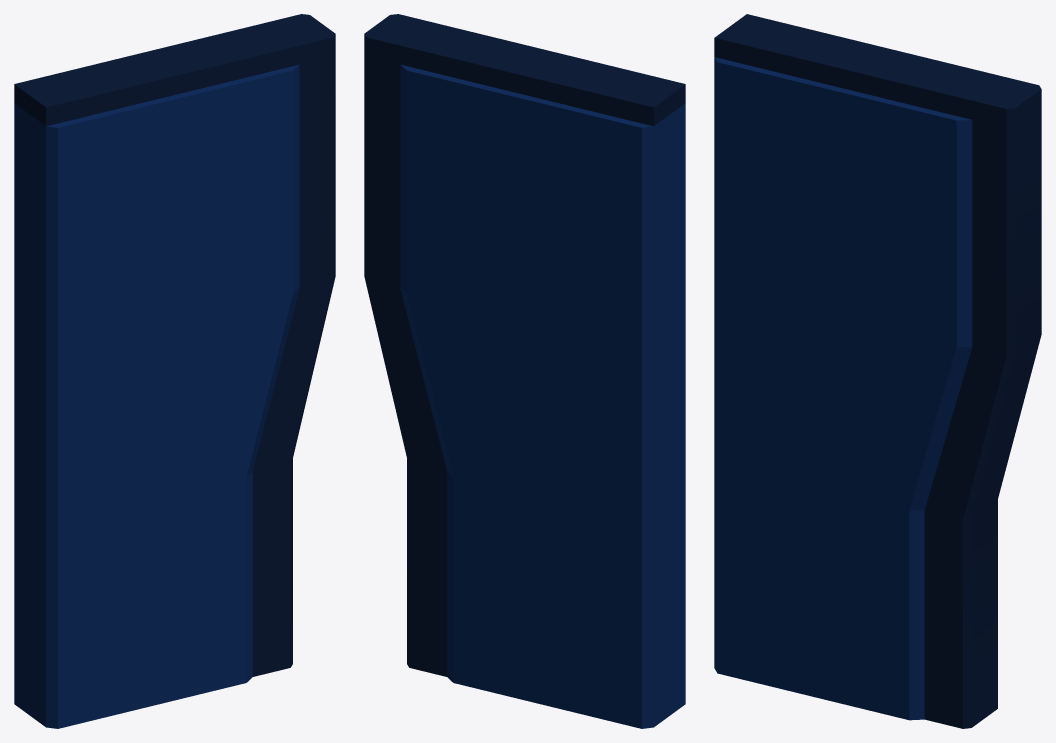
File: Module_Ss_doorL_2X_A.FBX
3 renders of one model, left to right at view 1: azimuth 30°, elevation 25°; view 2: azimuth 150°, elevation 25°; view 3: azimuth 330°, elevation 25°, orthographic.
Parts seen in each view (by area): view 1: Module_Ss_doorL_2X_Ab; view 2: Module_Ss_doorL_2X_Ab; view 3: Module_Ss_doorL_2X_Ab.
Boxes of the visible parts, box(x1,y1,x2,y2) form: Module_Ss_doorL_2X_Ab: box(14, 14, 335, 728); Module_Ss_doorL_2X_Ab: box(364, 14, 685, 728); Module_Ss_doorL_2X_Ab: box(714, 14, 1041, 728).
Size of the model in its own units: 37.07 by 75.04 by 8.97.
